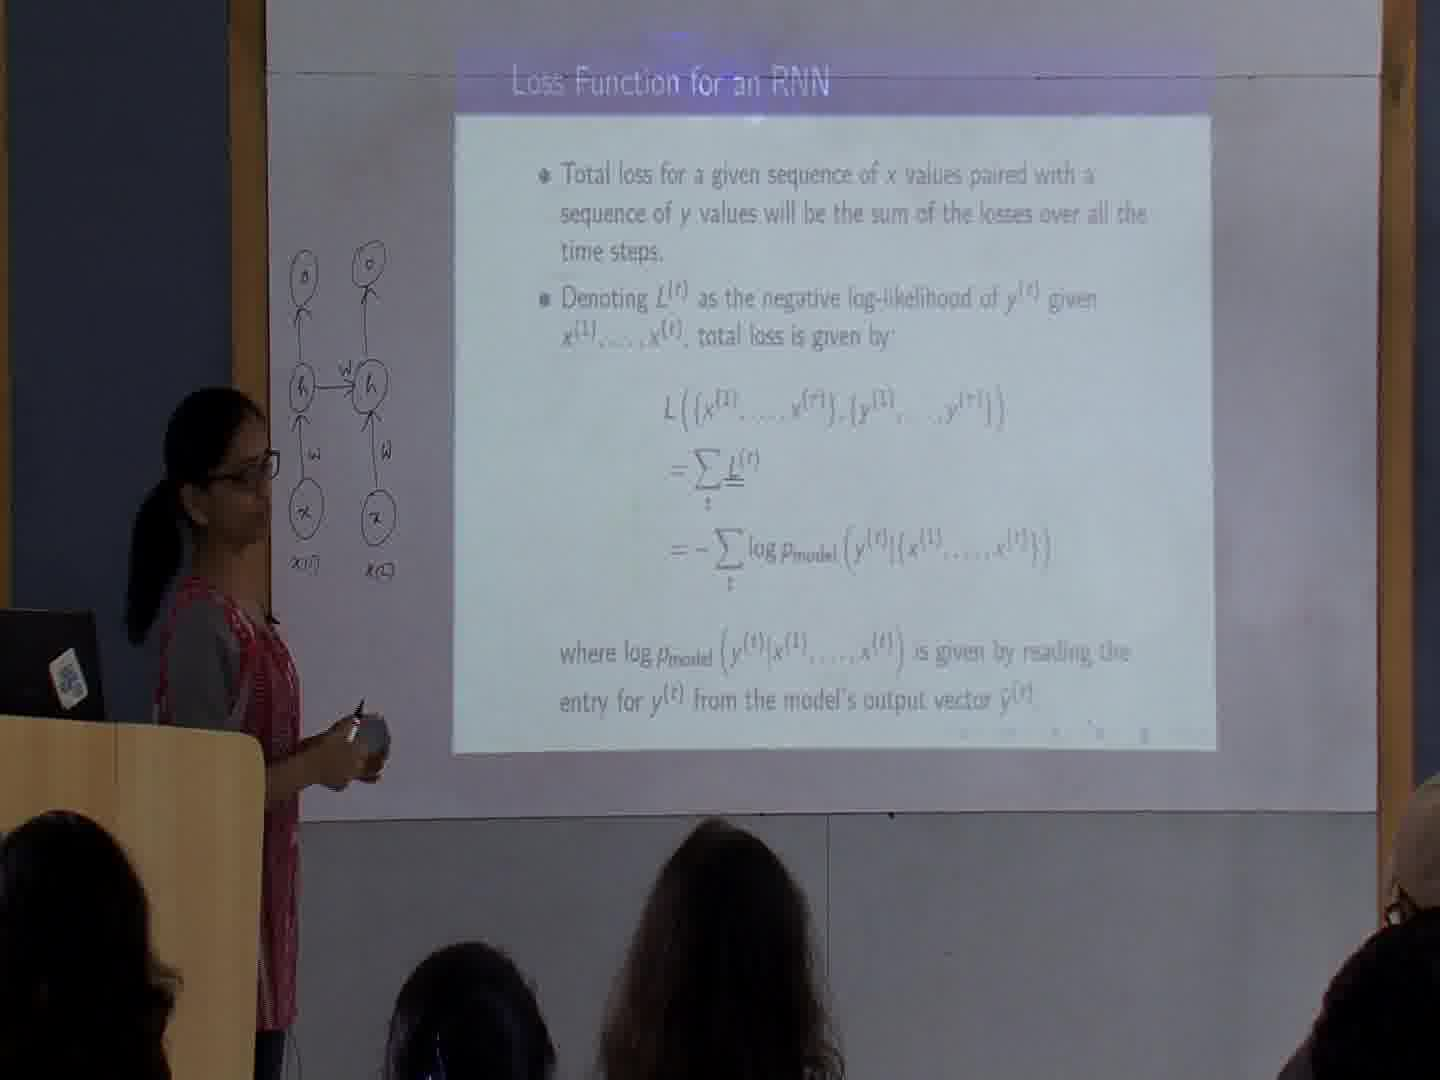eq: (664, 521, 1054, 594), (657, 382, 1013, 436), (668, 444, 766, 513)
